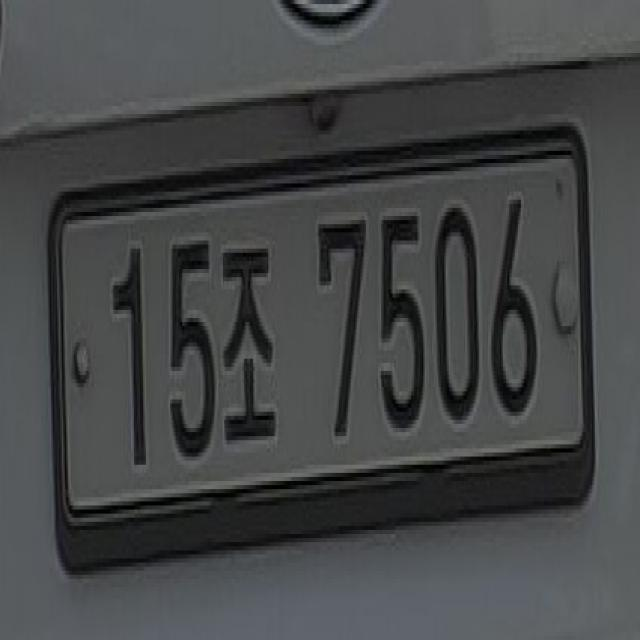0: (431, 188, 485, 432)
1: (107, 228, 158, 489)
5: (161, 220, 220, 481), (374, 188, 431, 440)
6: (485, 179, 544, 428)
7: (312, 196, 373, 448)
jo: (220, 220, 281, 457)
license_plate: (42, 106, 601, 599)
